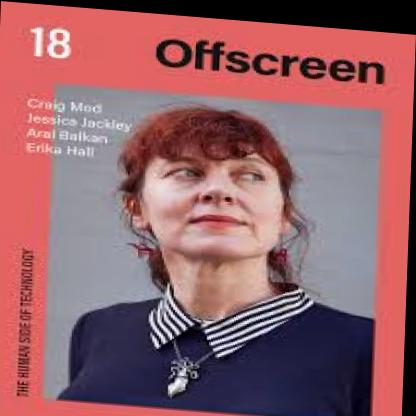Paper: (0, 3, 405, 416)
